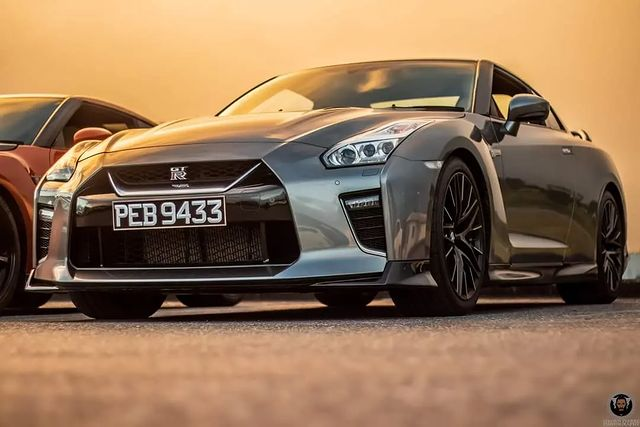License-Plate: (112, 202, 224, 229)
